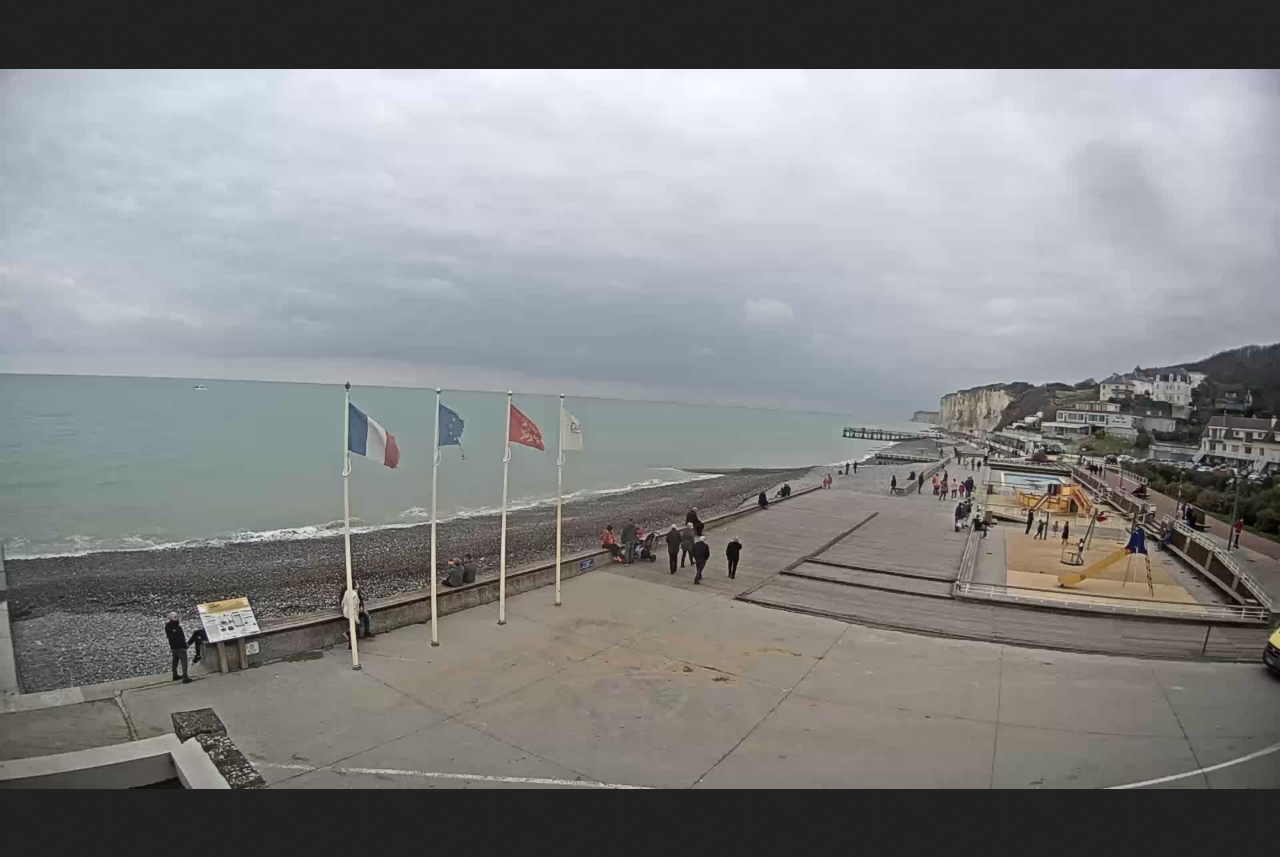maybe: (346, 401, 401, 470), (510, 403, 546, 452), (559, 409, 583, 453)
yes: (437, 404, 463, 444)
